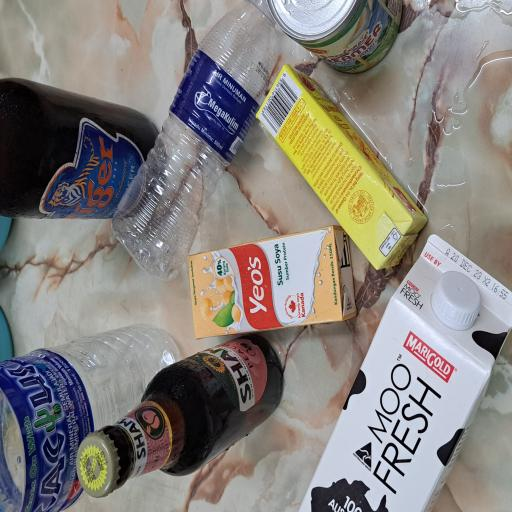can: (331, 355, 384, 512)
drink carton: (177, 341, 335, 512), (0, 394, 209, 512), (131, 252, 214, 476)
glass bottle: (10, 102, 135, 378), (218, 0, 322, 208)
plastic bottle: (180, 144, 383, 364), (0, 0, 144, 250)
